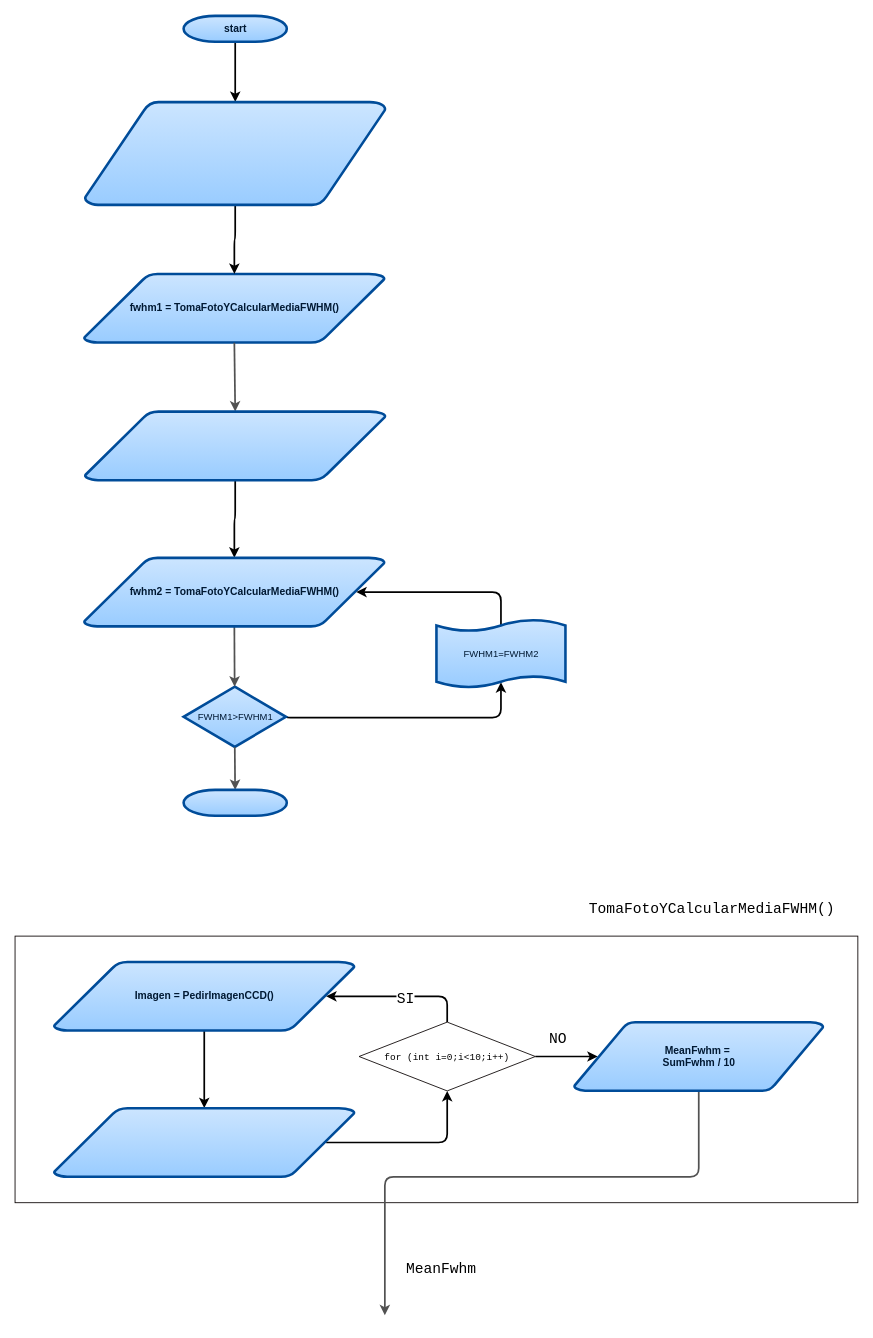
The diagram is 873 pixels wide and 1338 high, and some of its shapes have lost their labels. The shapes that lost their labels are listed below. From the top down, each one's centre as x and y in pixels, then its label:
(235,153): DIRECCION=0 NUMERO_PASOS=1 FocuserPosition = 0 fwhm2 = 0
(235,445): FocuserPosition= moverEnfocador(Direccion, Numero_pasos)
(235,802): end
(204,1142): SumF whm += CalcularFwhm(Imagen)
